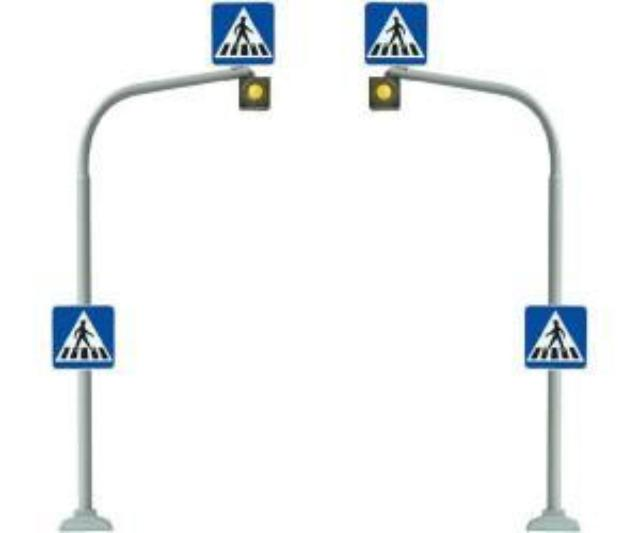crosswalk-sign: (50, 304, 116, 370), (210, 1, 276, 65), (364, 1, 430, 65), (524, 304, 588, 370)
